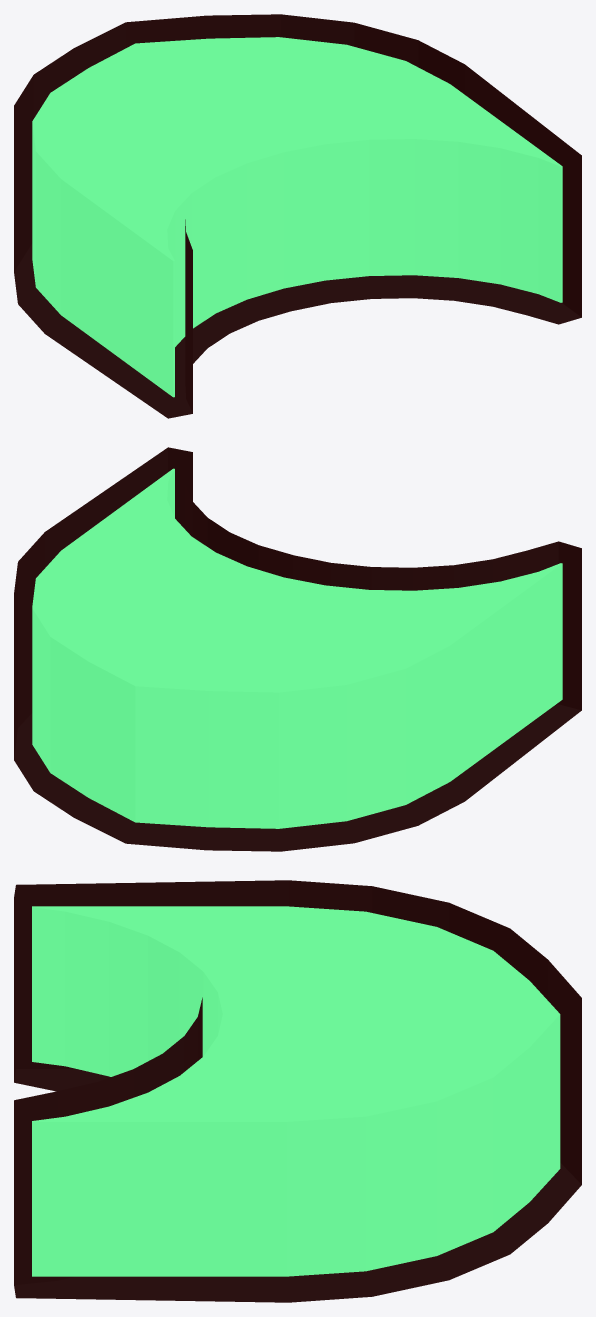
3 renders of one model, top to bottom at view 1: azimuth 30°, elevation 25°; view 2: azimuth 150°, elevation 25°; view 3: azimuth 270°, elevation 25°, orthographic. The views are drawn at different scales.
Parts seen in each view (by area): view 1: Plane.001; view 2: Plane.001; view 3: Plane.001.
Boxes of the visible parts, x1,y1,x2,y2 form: Plane.001: (14,14,581,418); Plane.001: (14,447,581,851); Plane.001: (14,880,581,1302).
Bounding box in the file's own units: 2.16 × 0.8295 × 2.23.
